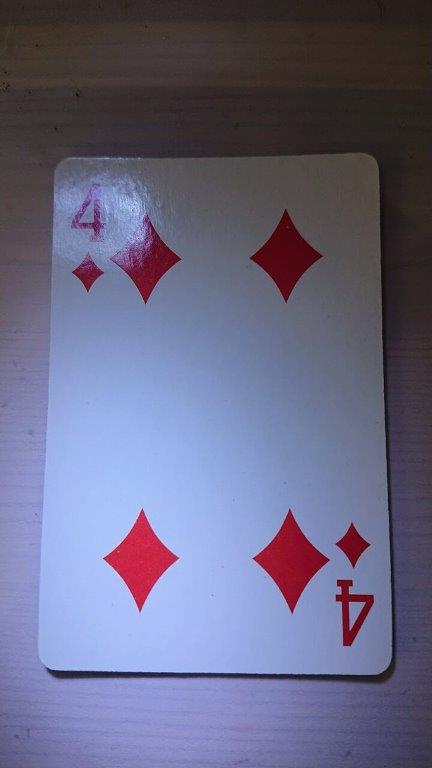4D: (34, 149, 396, 677)
